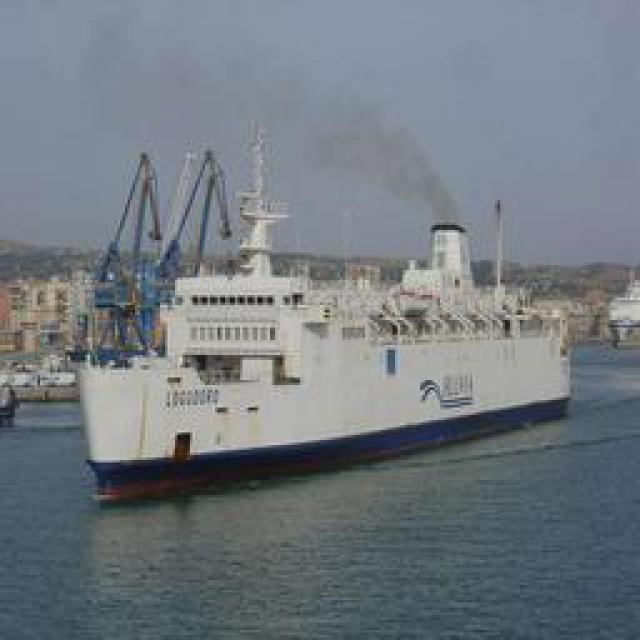Ship: (79, 125, 602, 495)
